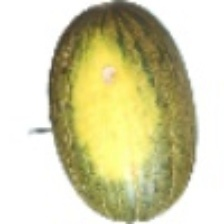honeydew: (8, 16, 199, 212)
